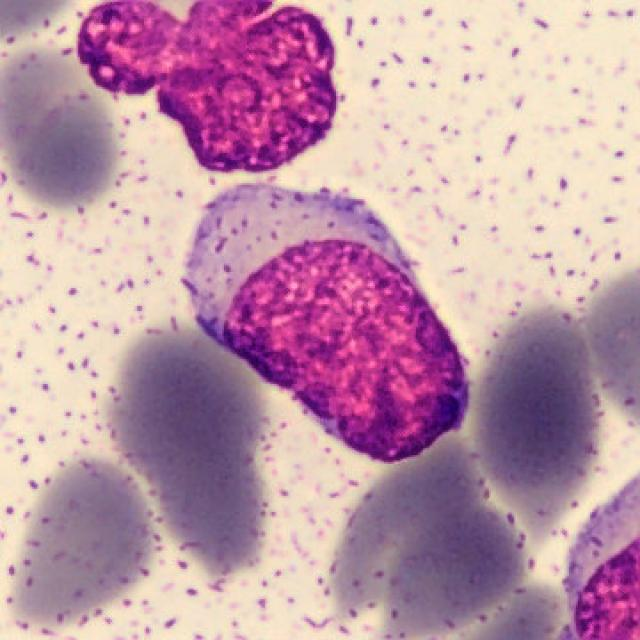Mieloblasto: (183, 187, 469, 466)
Restos celulares: (76, 0, 341, 178)
